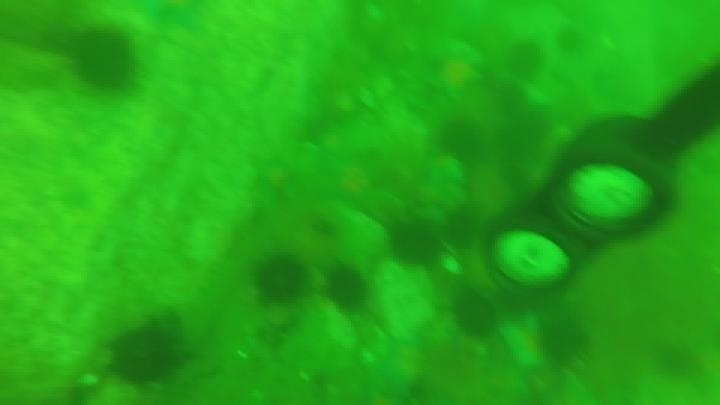echinus: (107, 322, 185, 387), (69, 28, 140, 95), (252, 253, 310, 305), (537, 315, 591, 368), (387, 219, 443, 269), (450, 288, 500, 340), (323, 263, 371, 313), (437, 119, 485, 164), (652, 340, 702, 382), (441, 204, 482, 252), (503, 39, 544, 81), (490, 81, 529, 117), (554, 25, 585, 56)
starfish: (366, 333, 430, 402), (317, 156, 385, 212), (426, 48, 485, 102), (498, 314, 549, 372), (247, 153, 300, 204), (137, 1, 210, 36)
